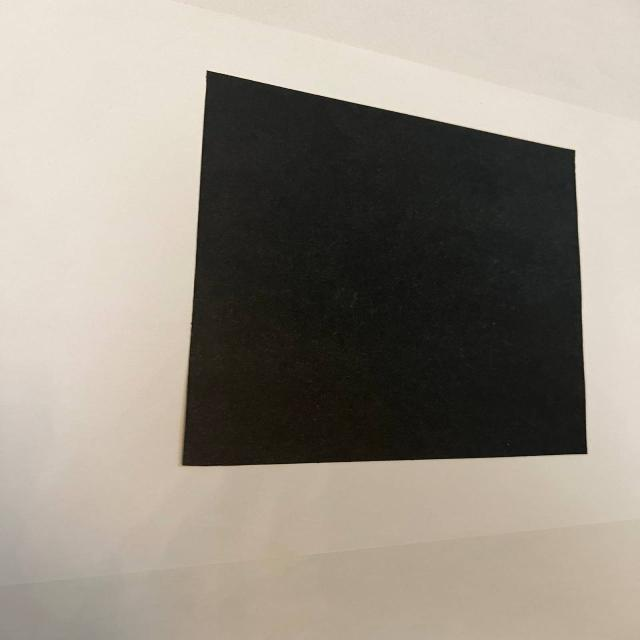Box: (182, 72, 586, 466)
